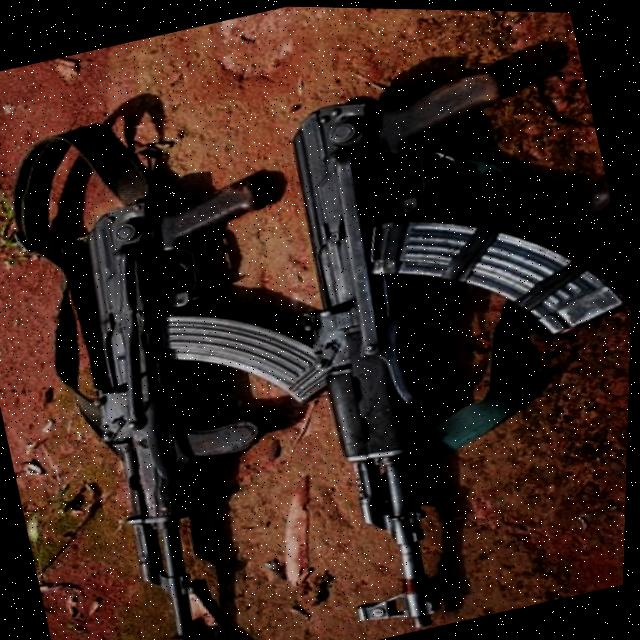firearm: (239, 41, 639, 640), (30, 161, 394, 640)
